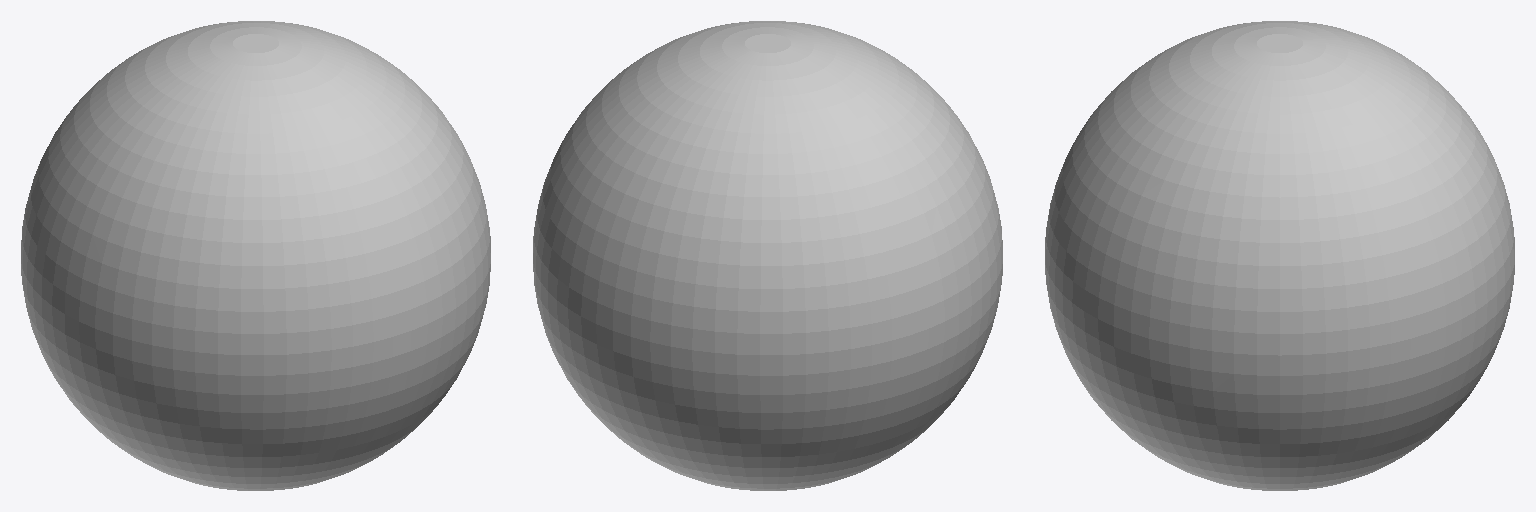
File: ball5.obj
The picture shows the model from 3 angles: view 1: azimuth 30°, elevation 25°; view 2: azimuth 150°, elevation 25°; view 3: azimuth 270°, elevation 25°; orthographic projection.
Parts seen in each view (by area): view 1: planet_Sphere.012; view 2: planet_Sphere.012; view 3: planet_Sphere.012.
Boxes of the visible parts, <box> form: planet_Sphere.012: <box>21,21,490,490</box>; planet_Sphere.012: <box>533,21,1002,490</box>; planet_Sphere.012: <box>1045,21,1514,490</box>.
Bounding box in the file's own units: 0.2214 × 0.2204 × 0.2214.